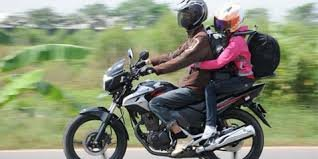motor: (59, 64, 263, 156)
